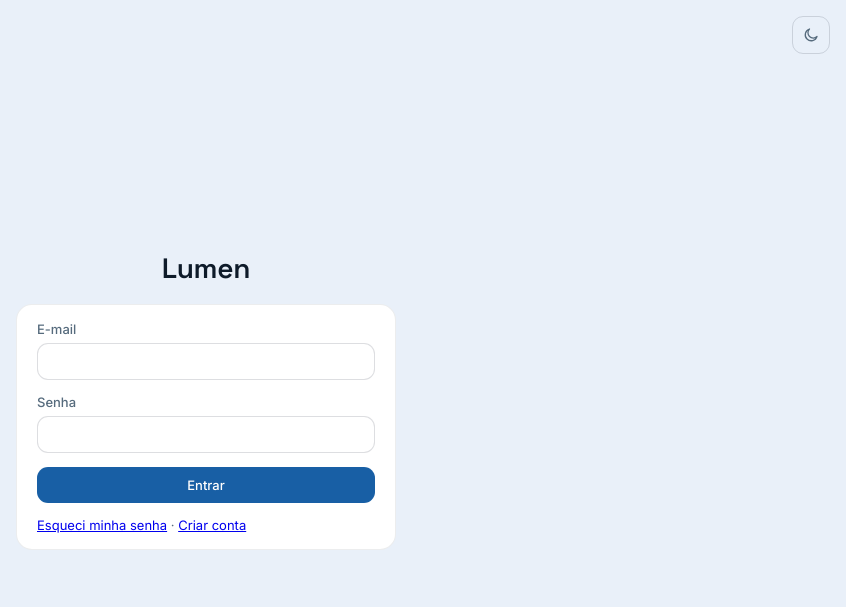
LoginPage › offers a resend action when the account is unverified (403)
In the field labelled "E-mail": (206, 362) [37,343,375,380], type "owner@example.com"
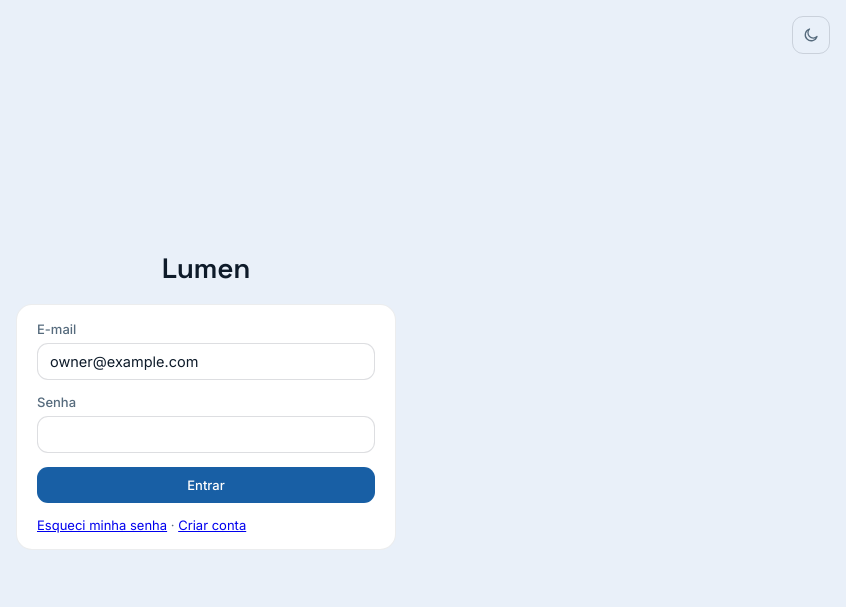
In the password field labelled "Senha": (206, 434) [37,416,375,453], type "a-strong-pass-9"
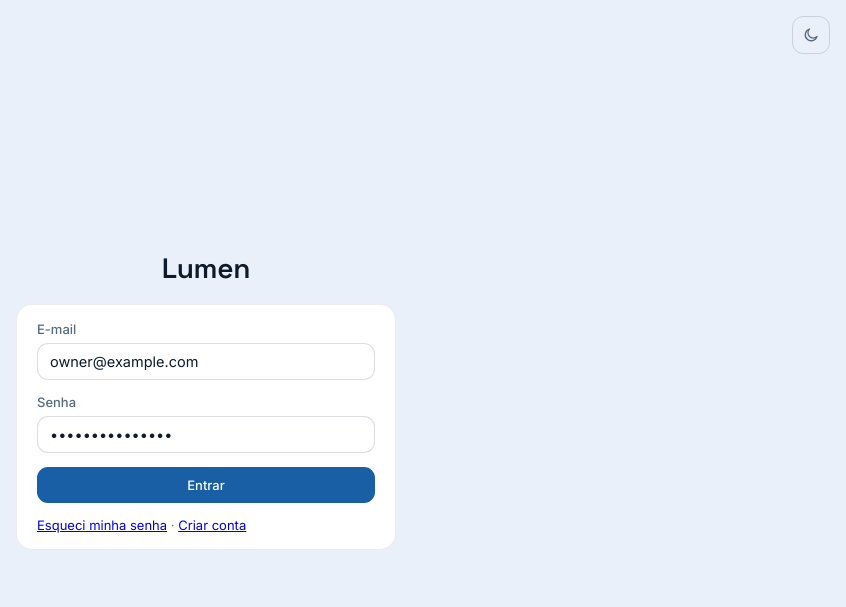
Click the button "Entrar": (206, 485) [37,467,375,503]
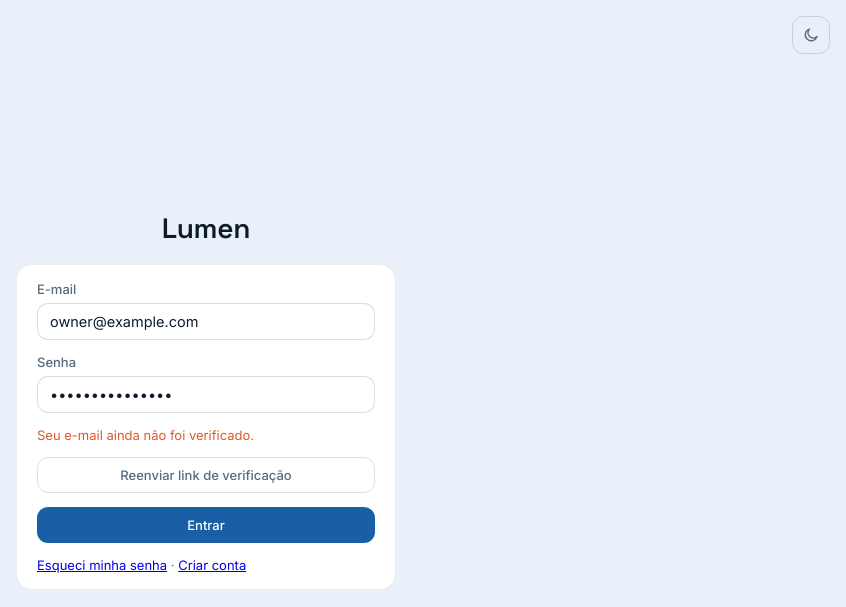
Expected: the button "Reenviar link de verificação" is shown, [37,457,375,493]
